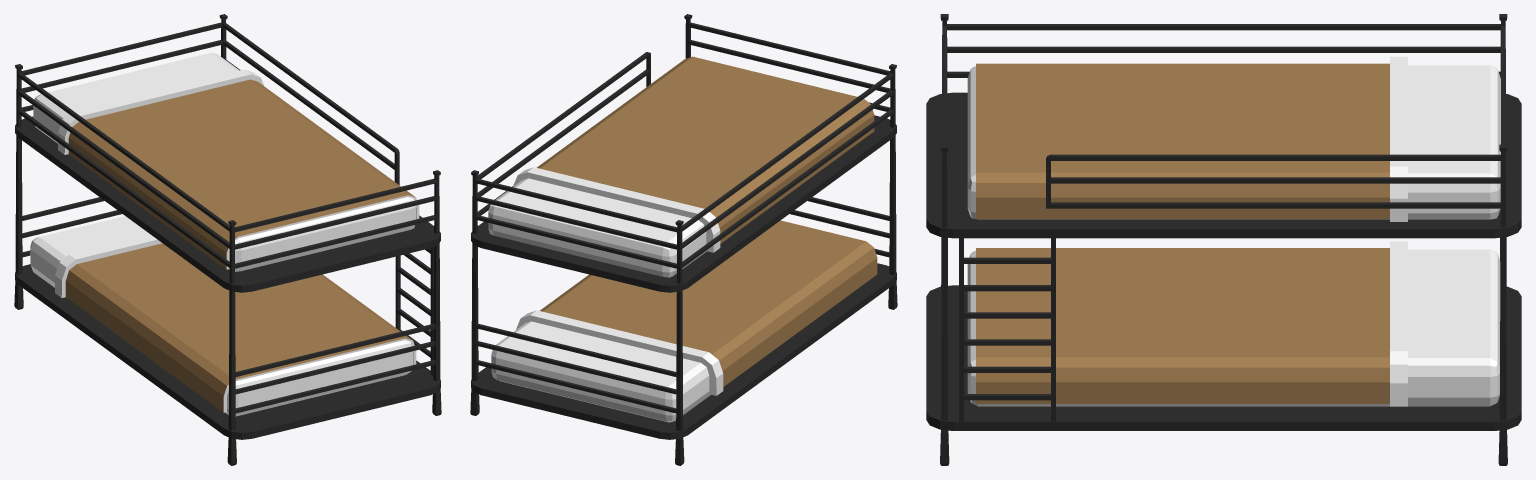
Rendered from Double Bed_1.fbx.
3 views of the same model, side by side, from view 1: azimuth 30°, elevation 25°; view 2: azimuth 150°, elevation 25°; view 3: azimuth 270°, elevation 25° (orthographic). The views are drawn at different scales.
Parts seen in each view (by area): view 1: Double Bed_1; view 2: Double Bed_1; view 3: Double Bed_1.
Boxes of the visible parts, x1=… form: Double Bed_1: x1=14, y1=14, x2=441, y2=465; Double Bed_1: x1=470, y1=14, x2=897, y2=465; Double Bed_1: x1=926, y1=14, x2=1521, y2=465.
Size of the model in its own units: 1.29 by 1.4 by 2.38.
